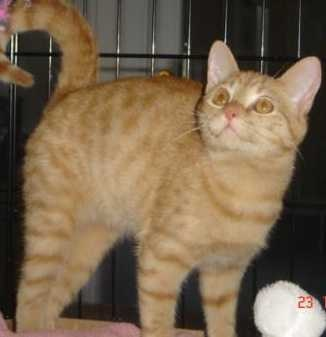Cat: (0, 30, 313, 312)
